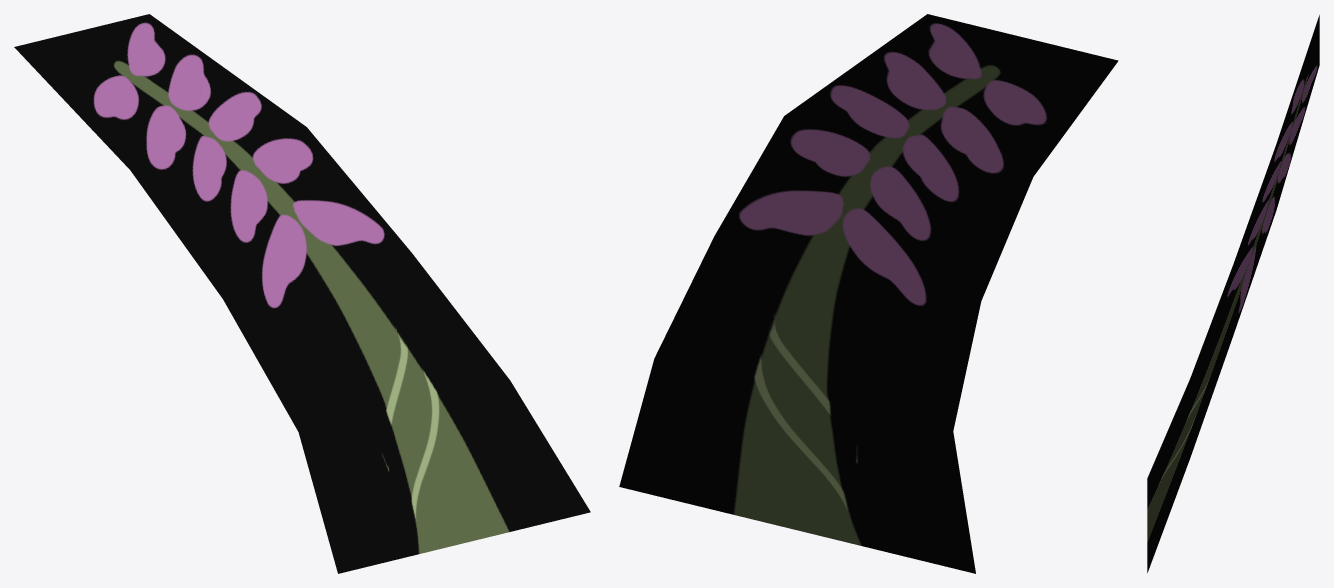
The model's file is Flower_002.fbx.
3 renders of one model, left to right at view 1: azimuth 30°, elevation 25°; view 2: azimuth 150°, elevation 25°; view 3: azimuth 270°, elevation 25°, orthographic. The views are drawn at different scales.
Parts seen in each view (by area): view 1: Flower_002; view 2: Flower_002; view 3: Flower_002.
Boxes of the visible parts, x1,y1,x2,y2 form: Flower_002: [14, 14, 590, 573]; Flower_002: [619, 14, 1118, 573]; Flower_002: [1147, 15, 1319, 572].
Bounding box in the file's own units: 203 × 208 × 84.36.
1 material, 1 textured.
